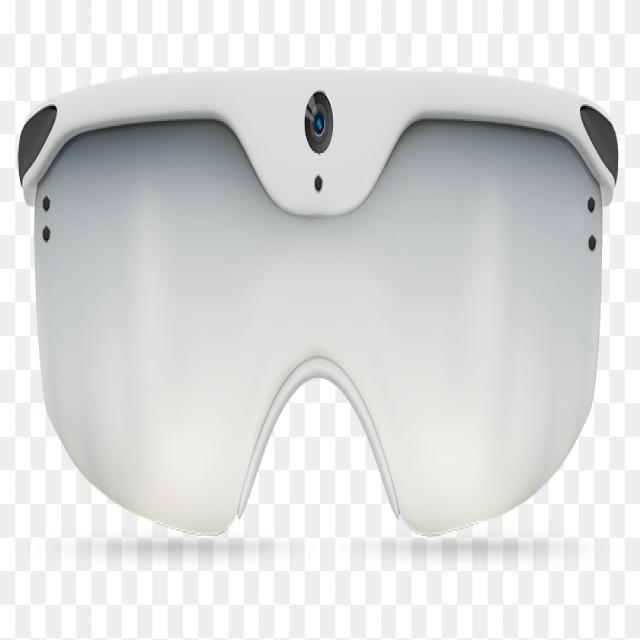Protective Glasses: (1, 3, 640, 639)
